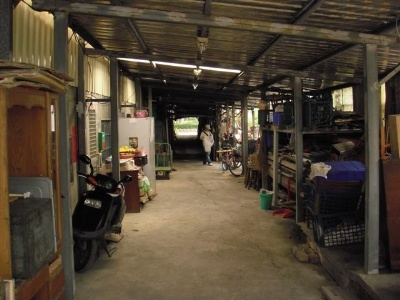bucket: (259, 192, 273, 210)
